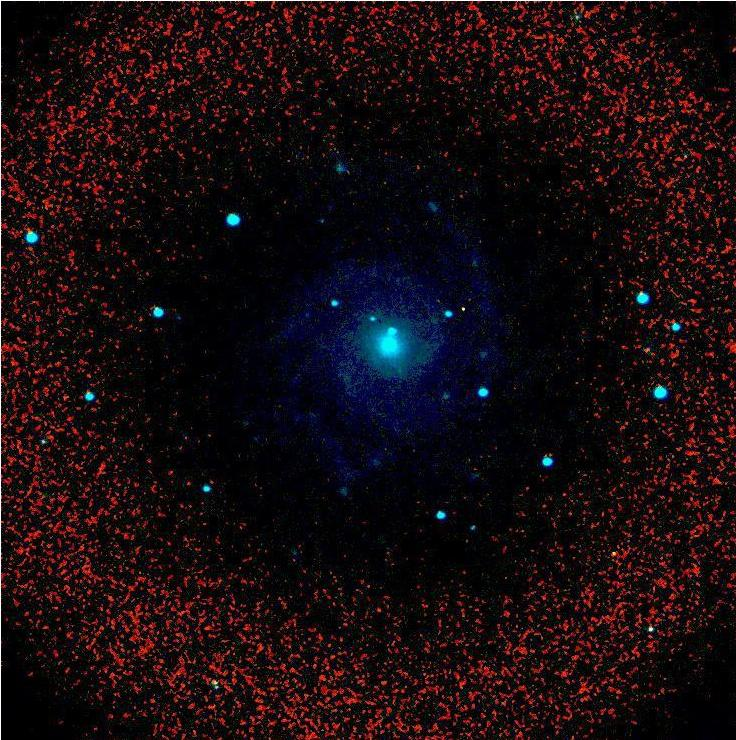star: (446, 293, 476, 323)
